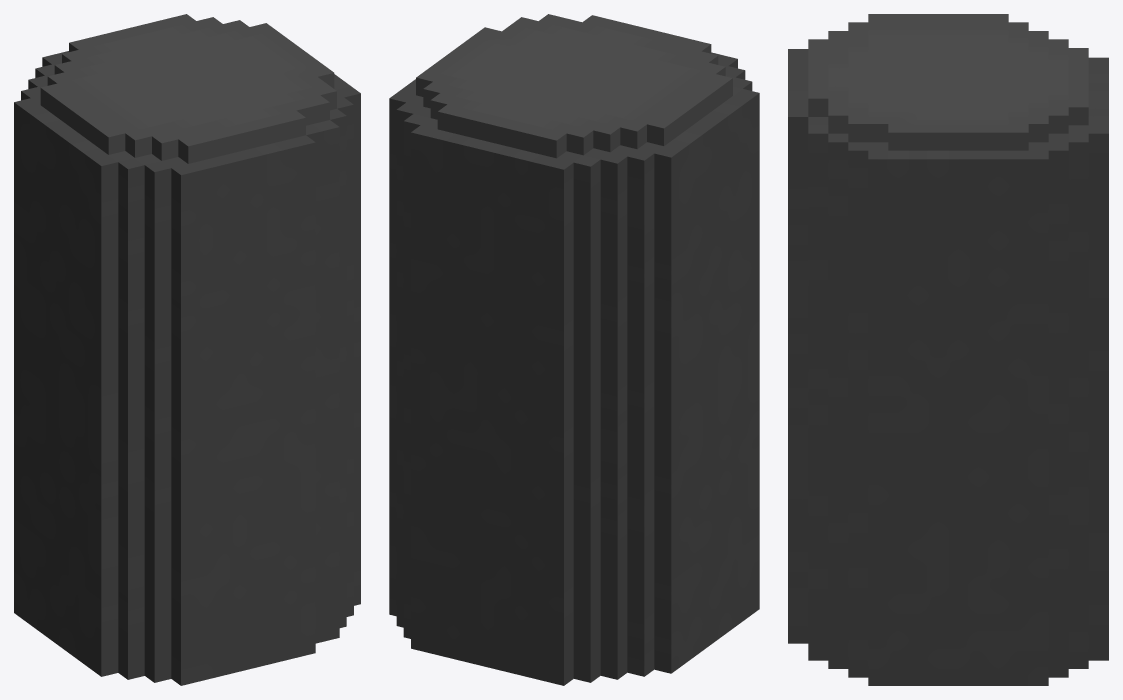
File: risingpillar.fbx
The picture shows the model from 3 angles, left to right: view 1: azimuth 30°, elevation 25°; view 2: azimuth 150°, elevation 25°; view 3: azimuth 270°, elevation 25°; orthographic projection. The views are drawn at different scales.
Visible parts, largest first — view 1: _3_part_7; view 2: _3_part_7; view 3: _3_part_7.
Part boxes in pixels (left/top/right/bottom): _3_part_7: left=14, top=14, right=360, bottom=685; _3_part_7: left=389, top=14, right=759, bottom=685; _3_part_7: left=788, top=14, right=1108, bottom=685.
Bounding box in the file's own units: 16 × 30 × 16.
Materials: 1 (1 with a texture image).
